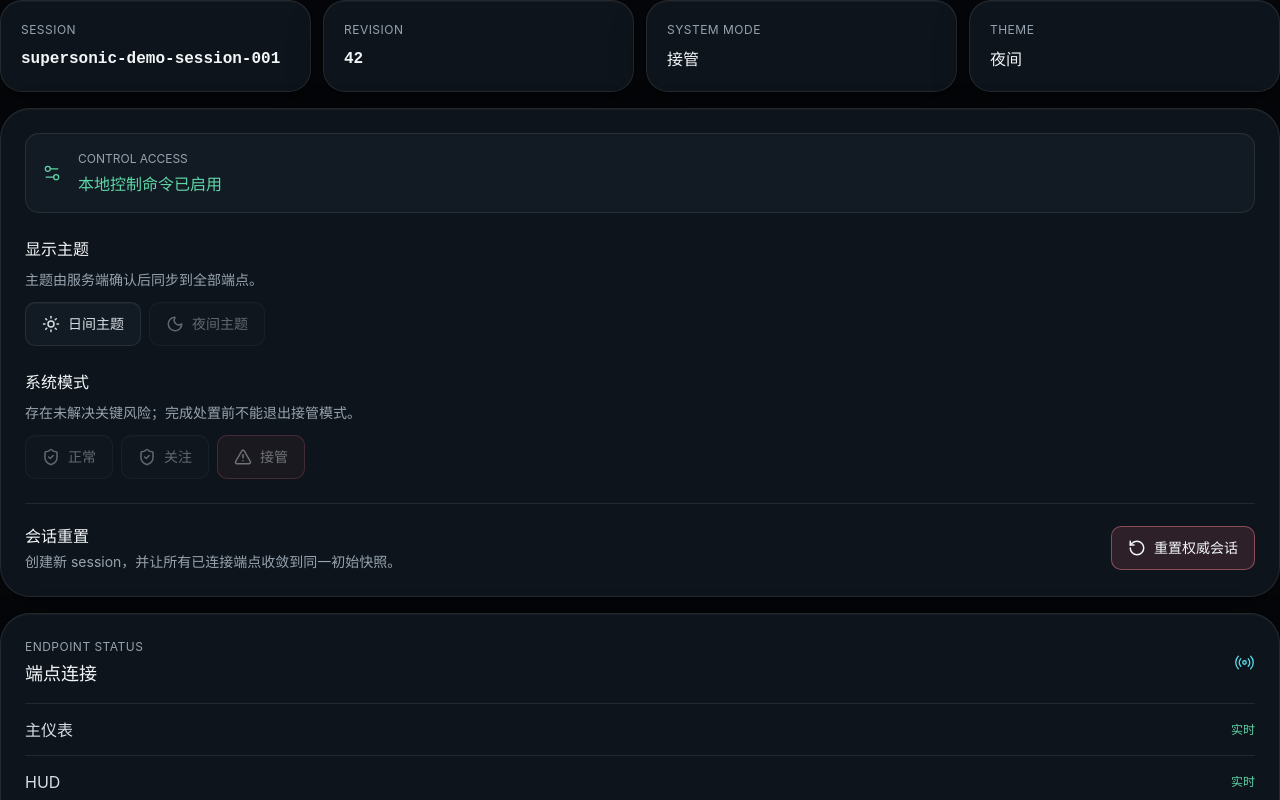
Test: ControlScreen › submits actions, requires reset confirmation, and renders only authoritative responses
Step 1. Click the button "日间主题" → {"x": 83, "y": 324}, box [25, 302, 141, 346]
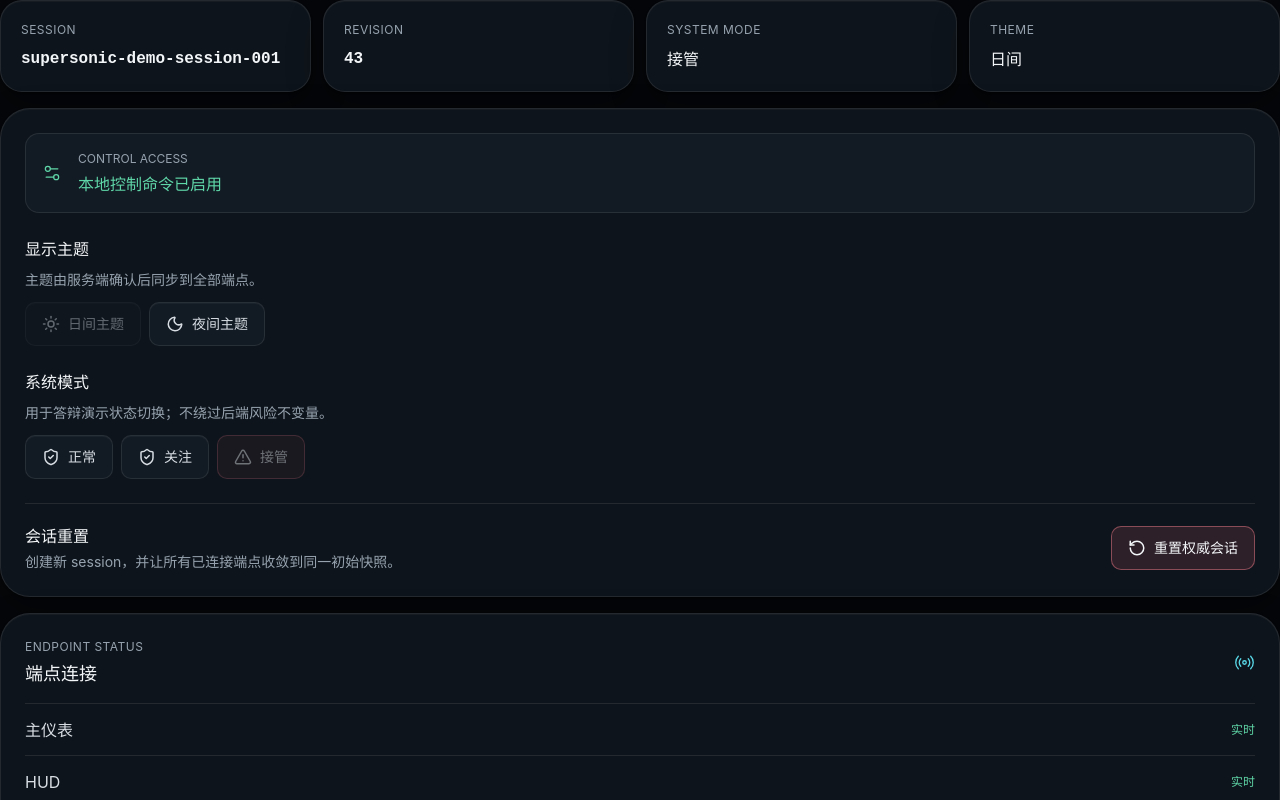
Expected: the text "43" is shown, [344, 50, 363, 68]
Expected: the text "日间" is shown, [990, 49, 1022, 69]
Expected: the button "正常" is enabled
Step 2. Click the button "正常" → {"x": 69, "y": 457}, box [25, 435, 113, 479]
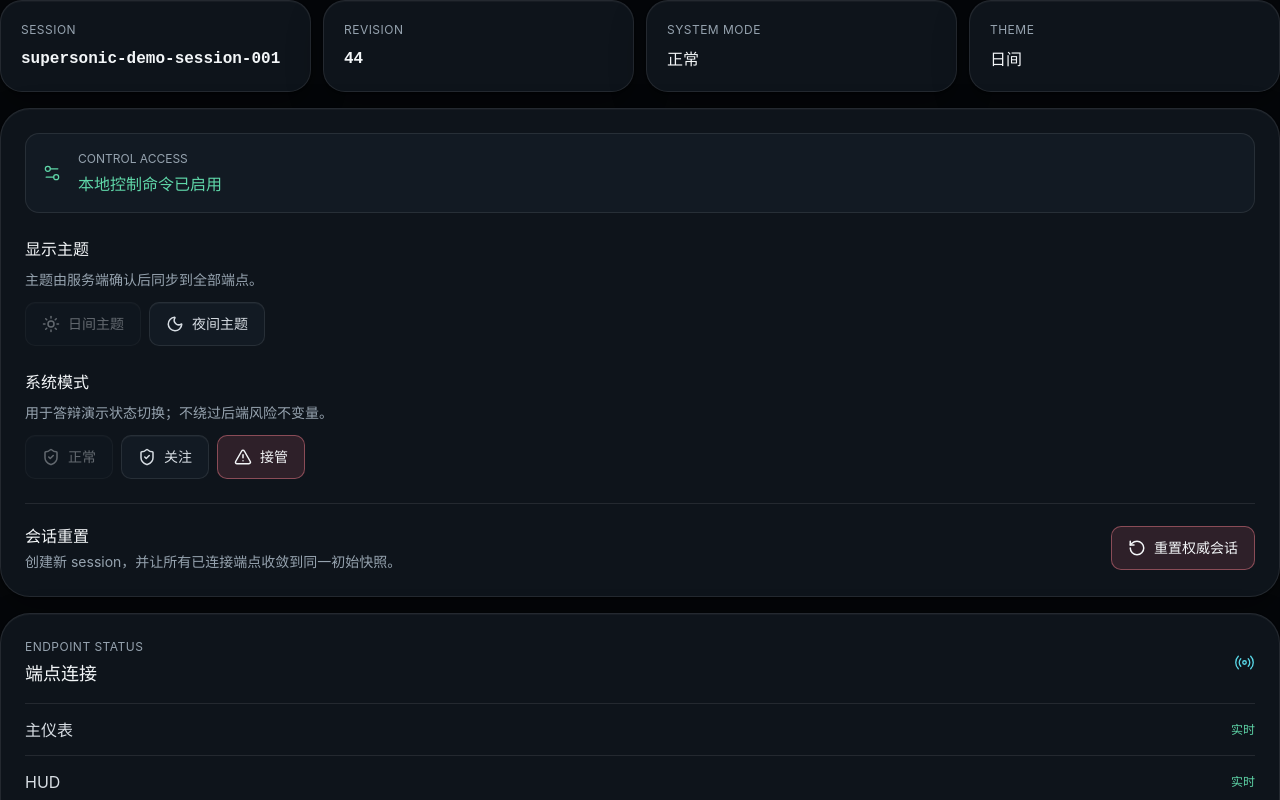
Expected: the text "44" is shown, [344, 50, 363, 68]
Step 3. Click the button "重置权威会话" → {"x": 1183, "y": 548}, box [1111, 526, 1255, 570]
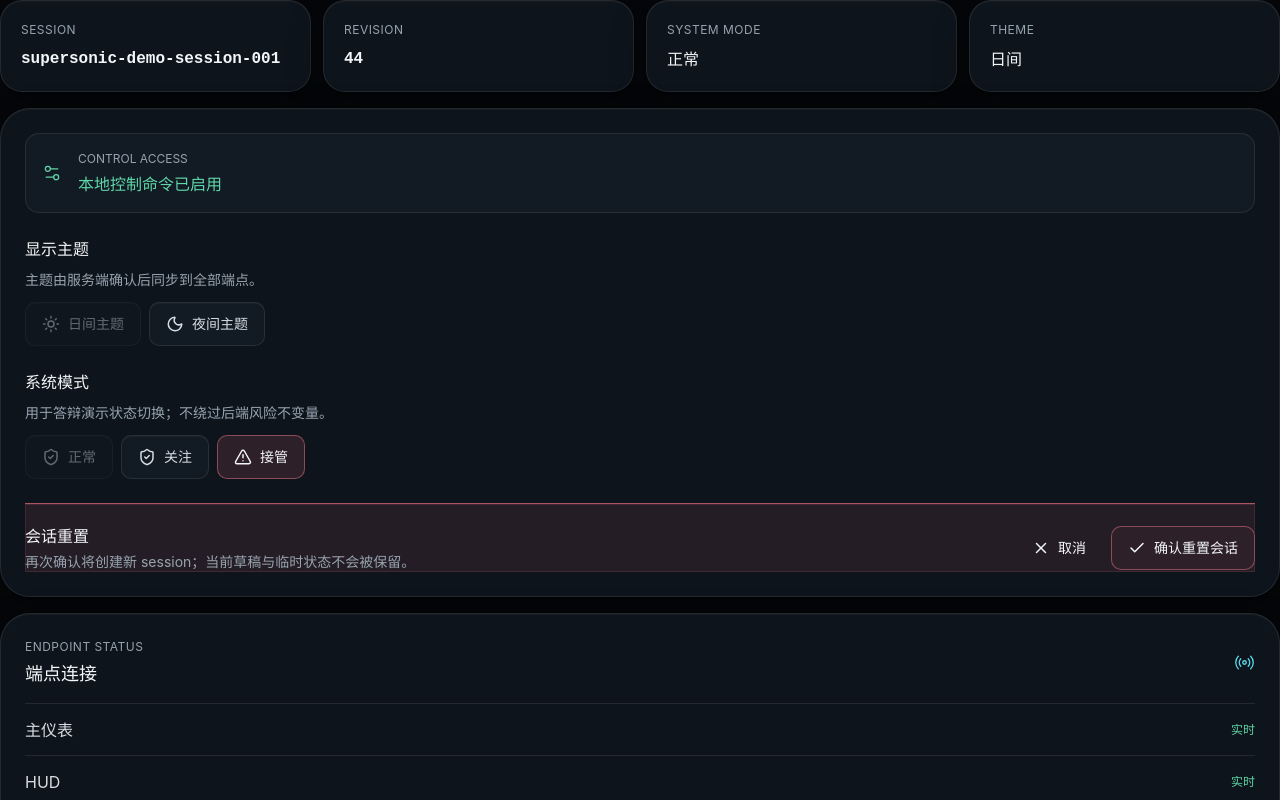
Expected: the button "确认重置会话" is shown
Step 4. Click the button "确认重置会话" → {"x": 1183, "y": 548}, box [1111, 526, 1255, 570]
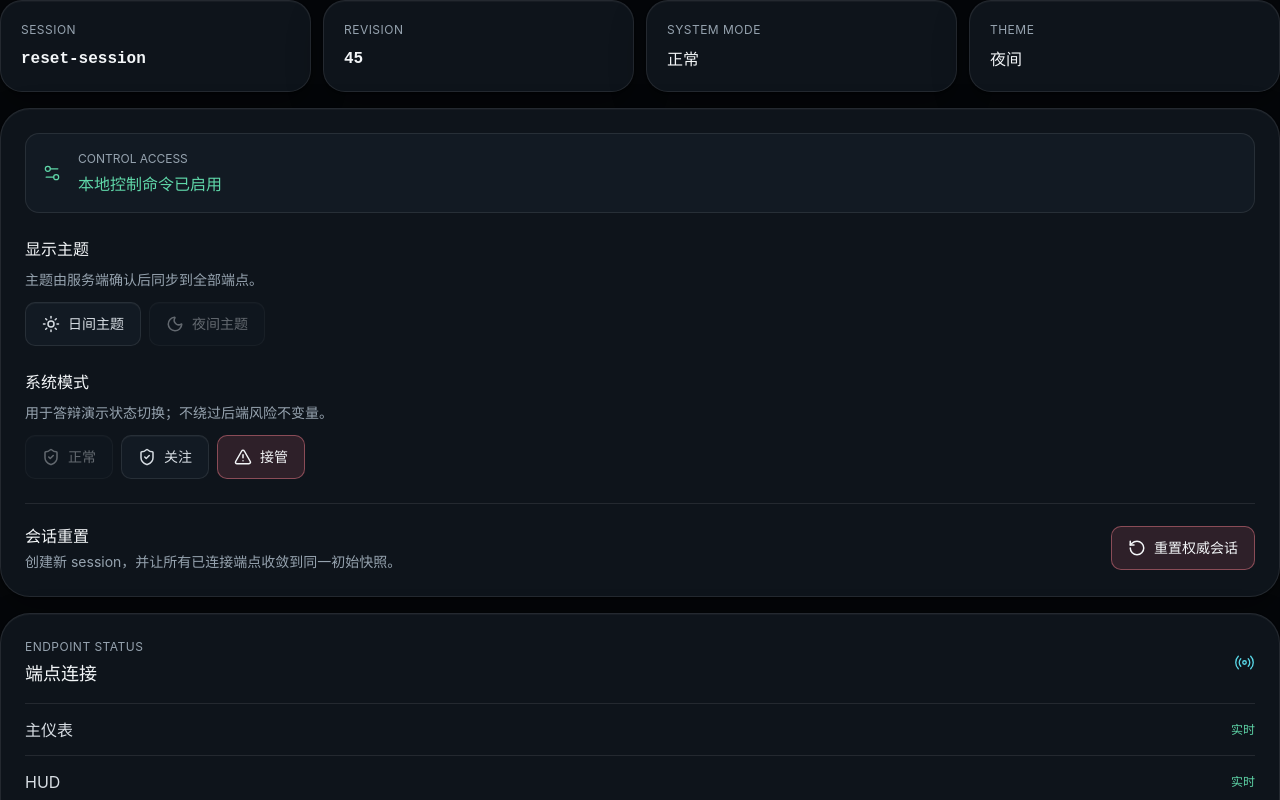
Expected: the text "45" is shown, [344, 50, 363, 68]
Expected: the text "reset-session" is shown, [21, 50, 146, 68]
